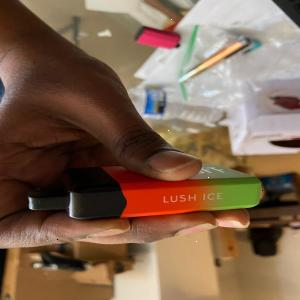Swift-E-Ciggirate: (12, 162, 271, 224)
